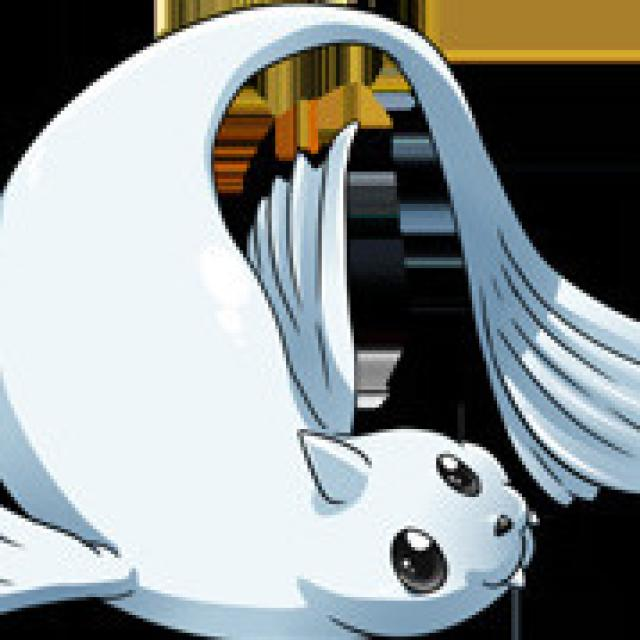Dewgong: (2, 12, 529, 640)
